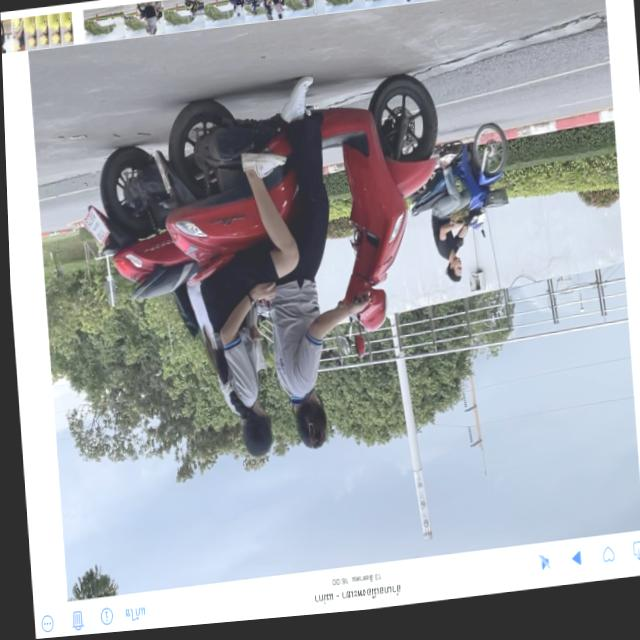seatbelt: (287, 402, 325, 457), (235, 409, 269, 464), (440, 264, 459, 291)
